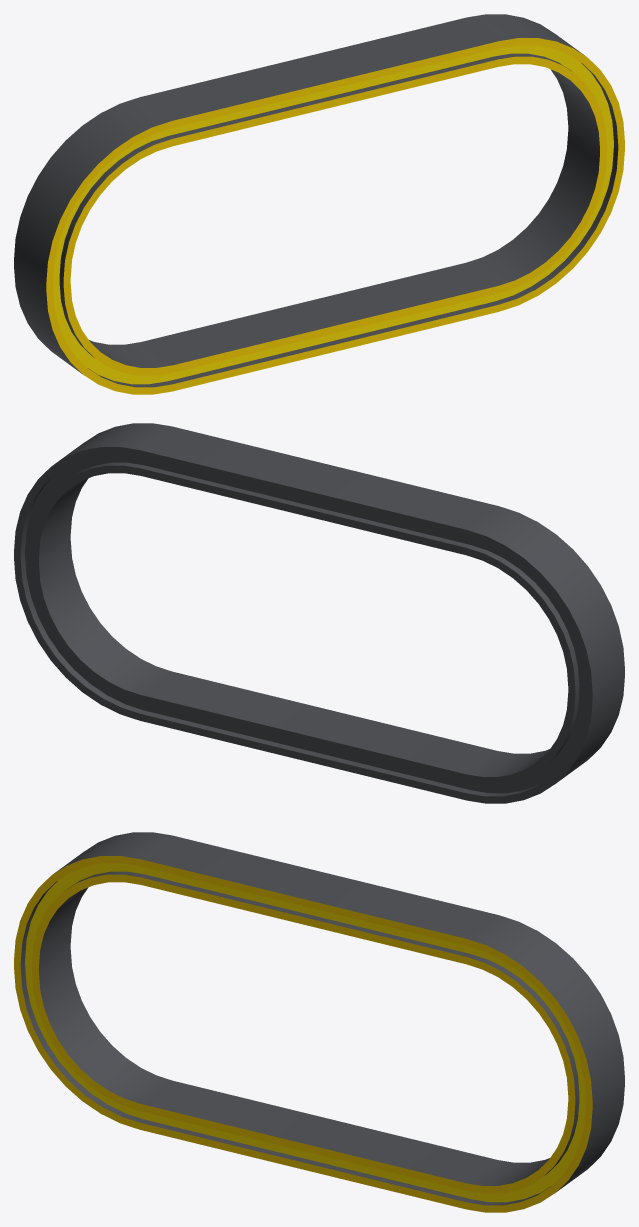
Rendered from ring_yellow_3.glb.
The picture shows the model from 3 angles, top to bottom: view 1: azimuth 30°, elevation 25°; view 2: azimuth 150°, elevation 25°; view 3: azimuth 330°, elevation 25°; orthographic projection.
Visible parts, largest first — view 1: Cube.002; view 2: Cube.002; view 3: Cube.002.
Part boxes in pixels (x1=…): Cube.002: x1=14, y1=14, x2=624, y2=394; Cube.002: x1=14, y1=423, x2=624, y2=803; Cube.002: x1=14, y1=832, x2=624, y2=1212.
Size of the model in its own units: 0.434 by 0.194 by 0.0421.
